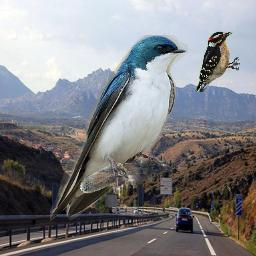Swallow: (50, 35, 188, 221)
Woodpecker: (196, 31, 240, 92)
